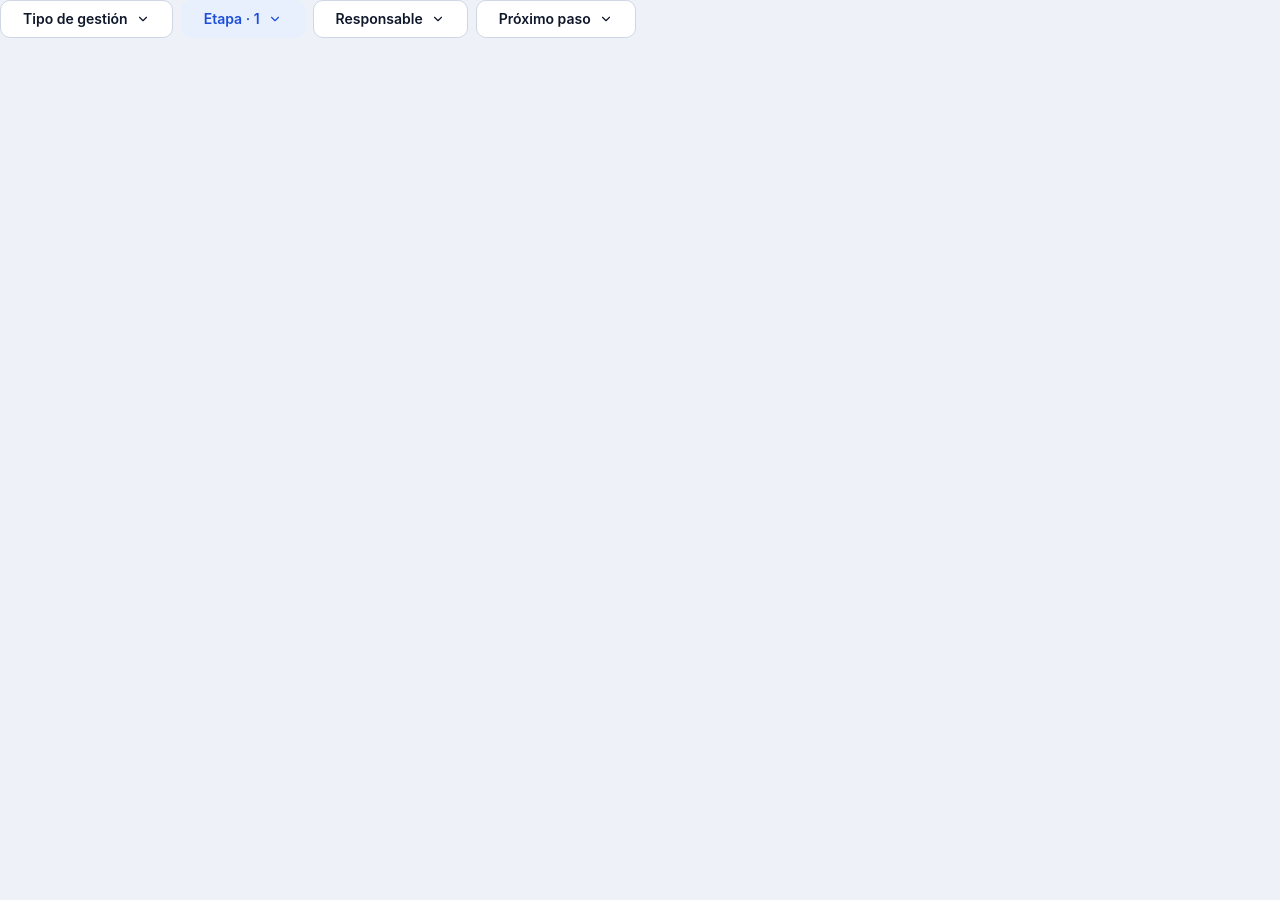
it: ManagementQuickFilters applied values outside the catalog › shows a value applied by a tile even if it is not a stage option
Step 1. Click the button "Etapa · 1" → (243, 19), box [181,0,305,38]
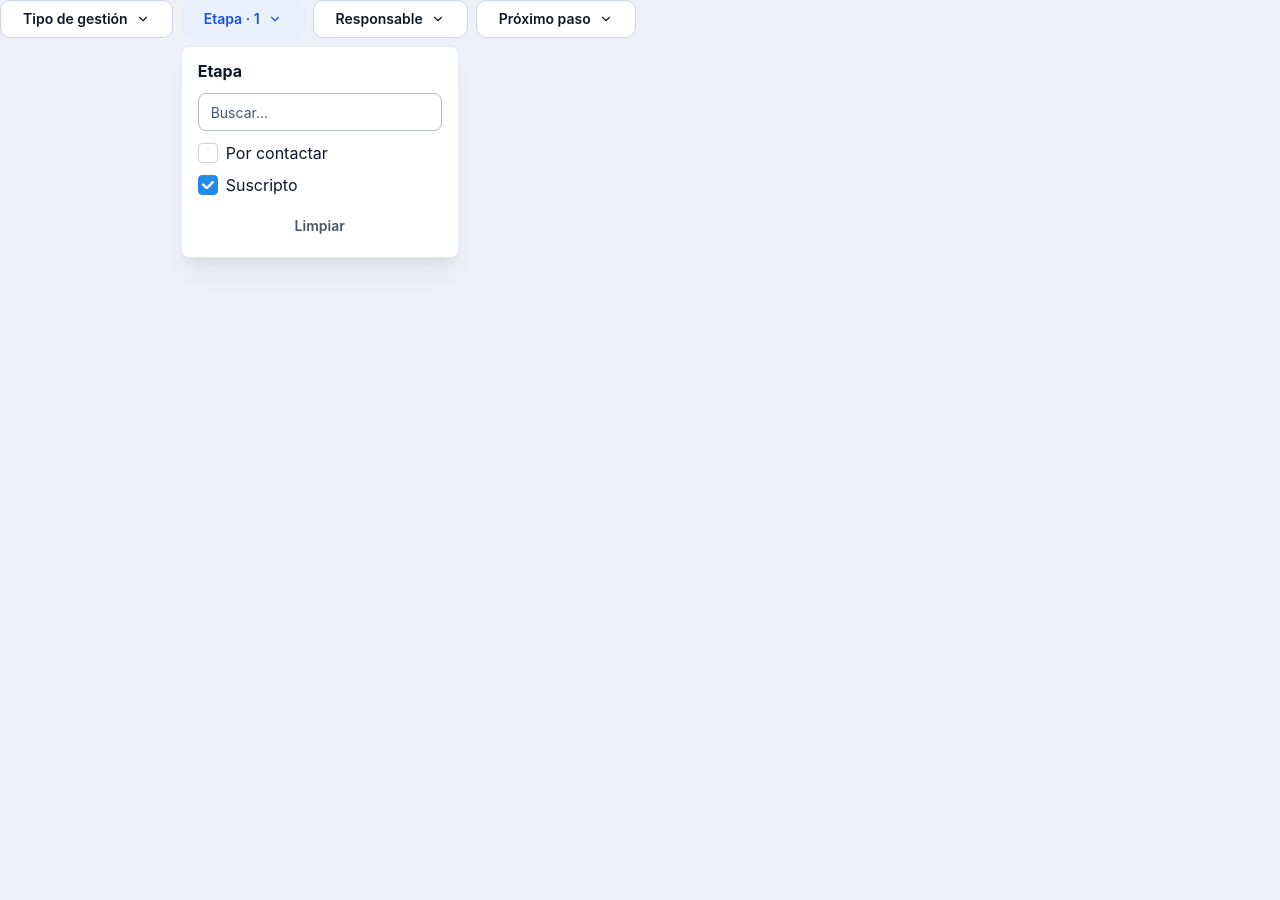
Now the checkbox labelled "Suscripto" is checked, box [198,175,218,195]
